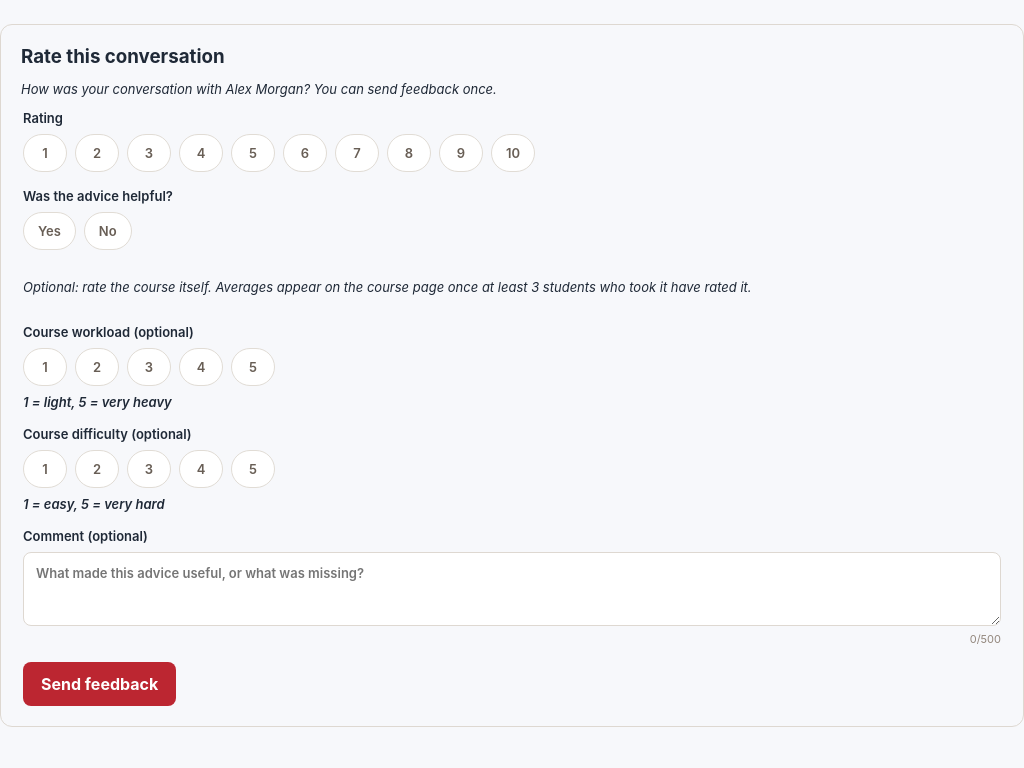
Scenario: FeedbackPanel › limits the comment to 500 characters and shows a count
In the text box labelled "Comment (optional)": (512, 589) [23,552,1001,626], type "Great tips"
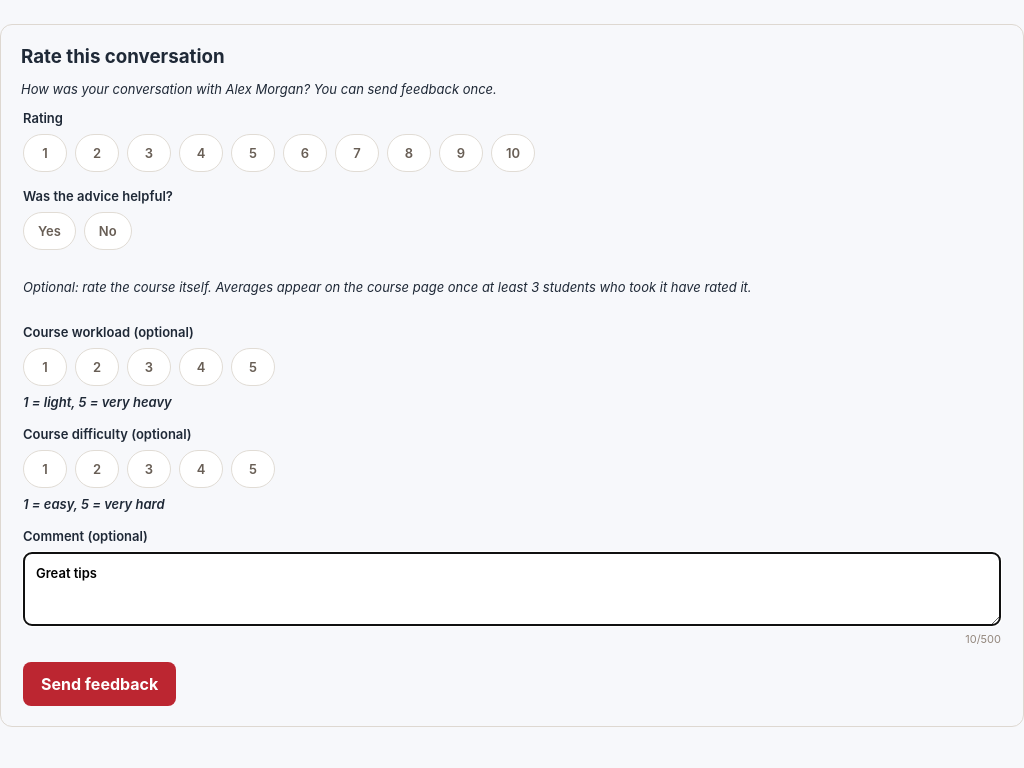
Expected: the text "10/500" is shown, [965,632,1001,646]
